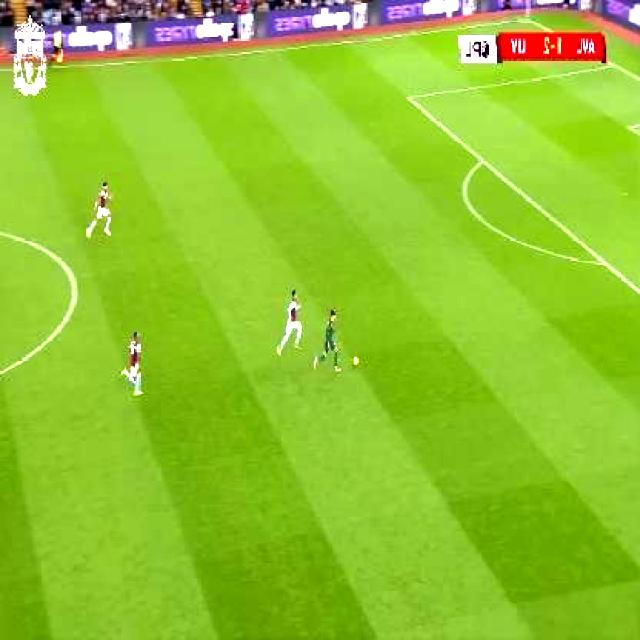bigarea_top_inner: (403, 86, 419, 106)
bigarea_top_outter: (606, 56, 620, 72)
bottom_arc_area_intersection: (597, 251, 614, 272)
corner: (515, 9, 537, 26)
smallarea_top_inner: (623, 117, 639, 135)
top_arc_area_intersection: (476, 149, 492, 169)
